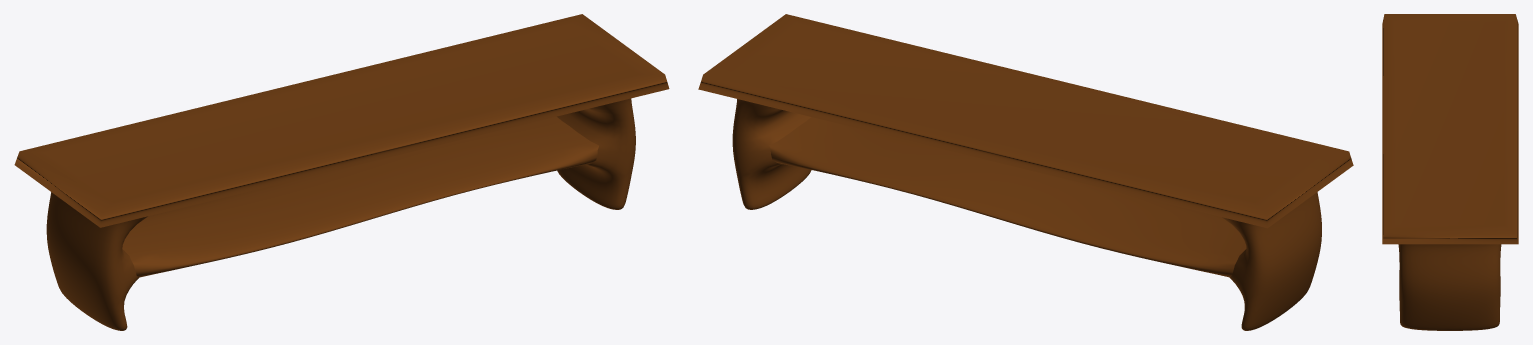
The model's file is _WoodTable_005.fbx.
3 views of the same model, side by side, from view 1: azimuth 30°, elevation 25°; view 2: azimuth 150°, elevation 25°; view 3: azimuth 270°, elevation 25° (orthographic). The views are drawn at different scales.
Visible parts, largest first — view 1: Cube.001; view 2: Cube.001; view 3: Cube.001.
Part boxes in pixels (box(x1,y1,x2,y2)): Cube.001: box(14, 14, 669, 330); Cube.001: box(698, 14, 1353, 330); Cube.001: box(1382, 14, 1518, 330).
Size of the model in its own units: 9.59 by 2.2 by 2.51.
